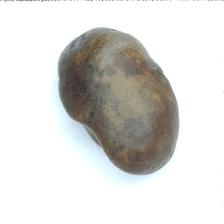NG: (54, 31, 98, 61)
